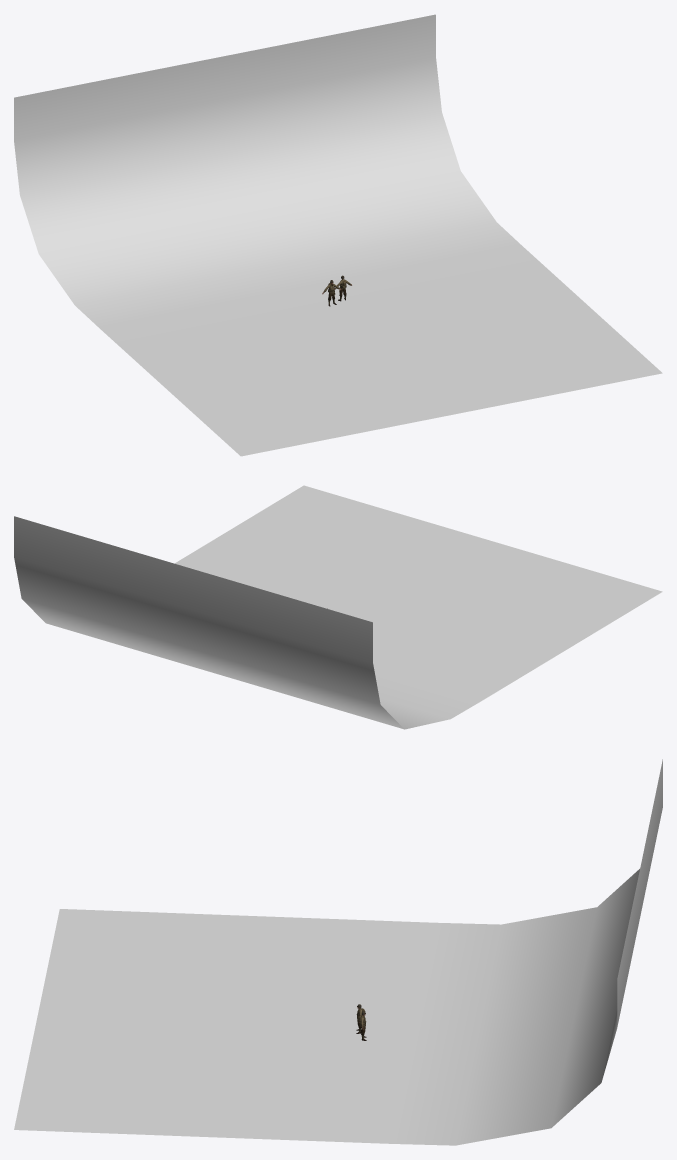
File: MaxExportedFBXFile.fbx
3 views of the same model, one above another, from view 1: azimuth 30°, elevation 25°; view 2: azimuth 150°, elevation 25°; view 3: azimuth 270°, elevation 25° (orthographic). The views are drawn at different scales.
Visible parts, largest first — view 1: Plane01; view 2: Plane01; view 3: Plane01.
Boxes of the visible parts, box(x1,y1,x2,y2) form: Plane01: box(14, 14, 662, 456); Plane01: box(14, 485, 662, 729); Plane01: box(14, 759, 662, 1145).
Size of the model in its own units: 1396 by 462 by 1573.
3 materials, 3 textured.
